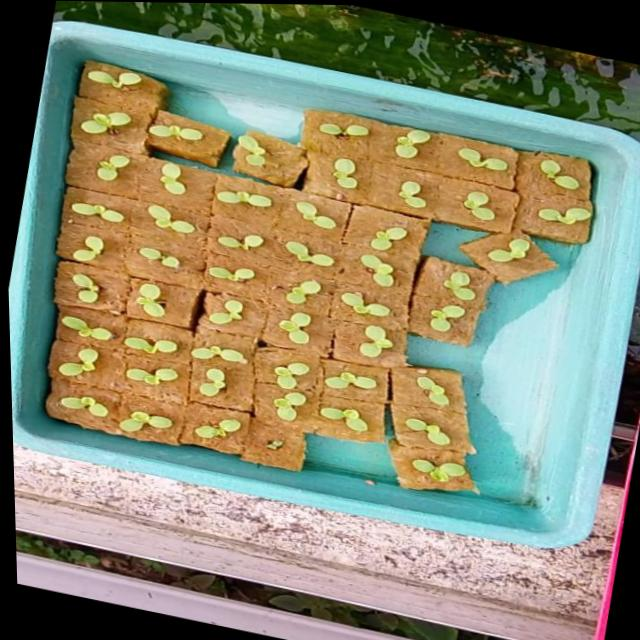Baby: (531, 159, 592, 195), (477, 235, 535, 272), (90, 155, 155, 185), (460, 151, 519, 180), (324, 365, 377, 397), (134, 248, 194, 276), (362, 256, 414, 288), (59, 315, 117, 341), (344, 288, 394, 318), (206, 294, 251, 327), (518, 194, 573, 221), (60, 274, 102, 309), (445, 267, 482, 302), (152, 207, 198, 235), (412, 455, 465, 479), (405, 415, 450, 442), (288, 242, 335, 267), (120, 411, 172, 432), (359, 325, 393, 357), (136, 284, 167, 319), (61, 348, 99, 376), (76, 204, 128, 224), (398, 132, 432, 162), (321, 410, 367, 432), (63, 396, 111, 417), (191, 346, 247, 364), (279, 312, 311, 343), (373, 225, 409, 252), (416, 374, 448, 404), (218, 233, 268, 252), (274, 362, 309, 389), (274, 389, 306, 418), (463, 193, 493, 223), (126, 337, 178, 354), (195, 418, 240, 437), (288, 281, 323, 305), (163, 165, 190, 196), (430, 310, 465, 333), (77, 238, 109, 263), (199, 368, 226, 397), (335, 160, 360, 191), (212, 267, 258, 283), (301, 204, 330, 229), (401, 183, 427, 210), (129, 368, 168, 385)
